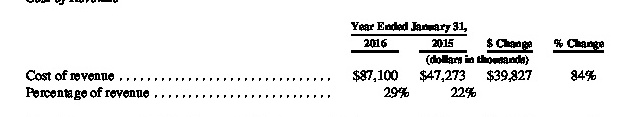table: (0, 0, 631, 117)
